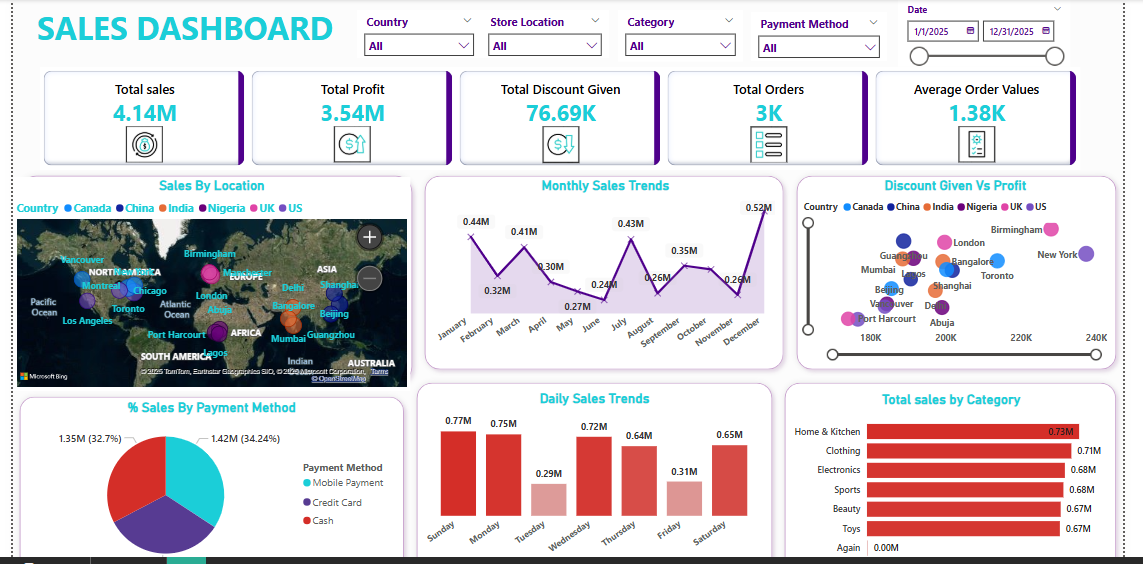

Layout of this report page (visuals, bound fields, positions):
{"tool":"powerbi","page":{"name":"Page 1","canvas":[1500,820],"ordinal":0},"visuals":[{"type":"cardVisual","fields":{"Data":["public Sales Data.Total sales","public Sales Data.Total Profit","public Sales Data.Total Discount Given","public Sales Data.Total Orders","public Sales Data.Average Order Values"]},"box":[37.1,90,1405.7,138.6],"z":0},{"type":"textbox","box":[0,2.9,464.3,74.3],"z":1000},{"type":"slicer","fields":{"Values":["public Sales Data.Country"]},"box":[464.9,13.5,167.6,64.9],"z":2000},{"type":"slicer","fields":{"Values":["public Sales Data.Store Location"]},"box":[632.4,13.5,173,64.9],"z":3000},{"type":"slicer","fields":{"Values":["public Sales Data.Category"]},"box":[817.1,12.9,168.6,70],"z":4000},{"type":"slicer","fields":{"Values":["public Sales Data.Payment Method"]},"box":[997.1,15.7,184.3,65.7],"z":5000},{"type":"slicer","fields":{"Values":["public Sales Data.Date"]},"box":[1195.7,0,232.9,90],"z":6000},{"type":"shape","box":[0,228.6,548.6,298.6],"z":7000},{"type":"shape","box":[547.1,228.6,502.9,280],"z":8000},{"type":"shape","box":[1050,228.6,450,280],"z":9000},{"type":"shape","box":[0,527.1,537.1,262.9],"z":10000},{"type":"shape","box":[537.1,508.6,498.6,281.4],"z":11000},{"type":"shape","box":[1034.3,508.6,465.7,281.4],"z":12000},{"type":"areaChart","title":" Monthly Sales Trends","fields":{"Category":["public Sales Data.Month Name"],"Y":["public Sales Data.Total sales"]},"box":[565.7,238.6,468.6,251.4],"z":13000},{"type":"columnChart","title":"Daily Sales Trends","fields":{"Category":["public Sales Data.Day Name"],"Y":["public Sales Data.Total sales"]},"box":[548.6,527.1,474.3,240],"z":14000},{"type":"pieChart","title":"% Sales By Payment Method","fields":{"Category":["public Sales Data.Payment Method"],"Y":["public Sales Data.Total sales"]},"box":[15.7,538.6,504.3,238.6],"z":15000},{"type":"scatterChart","title":"Discount Given Vs Profit","fields":{"X":["public Sales Data.Total Profit"],"Y":["public Sales Data.Total Discounts"],"Category":["public Sales Data.Store Location"],"Series":["public Sales Data.Country"],"Size":["public Sales Data.Total Orders"]},"box":[1062.9,238.6,420,251.4],"z":16000},{"type":"barChart","fields":{"Category":["public Sales Data.Category"],"Y":["public Sales Data.Total sales"]},"box":[1050,528.6,435.7,238.6],"z":17000},{"type":"map","title":"Sales By Location","fields":{"Category":["public Sales Data.Store Location"],"Size":["public Sales Data.Total sales"],"Series":["public Sales Data.Country"]},"box":[0,238.6,537.1,288.6],"z":17001}]}

Visuals, with their boxes on the page's 1500x820 design canvas (x1, y1, x2, y2). These are canvas units, not pixel positions in the 1143x564 screenshot, which may show the page scaled, cropped or inside an application window:
cardVisual - public Sales Data.Total sales x public Sales Data.Total Profit: l=37, t=90, r=1443, b=229
textbox: l=0, t=3, r=464, b=77
slicer - public Sales Data.Country: l=465, t=14, r=632, b=78
slicer - public Sales Data.Store Location: l=632, t=14, r=805, b=78
slicer - public Sales Data.Category: l=817, t=13, r=986, b=83
slicer - public Sales Data.Payment Method: l=997, t=16, r=1181, b=81
slicer - public Sales Data.Date: l=1196, t=0, r=1429, b=90
shape: l=0, t=229, r=549, b=527
shape: l=547, t=229, r=1050, b=509
shape: l=1050, t=229, r=1500, b=509
shape: l=0, t=527, r=537, b=790
shape: l=537, t=509, r=1036, b=790
shape: l=1034, t=509, r=1500, b=790
" Monthly Sales Trends" areaChart: l=566, t=239, r=1034, b=490
"Daily Sales Trends" columnChart: l=549, t=527, r=1023, b=767
"% Sales By Payment Method" pieChart: l=16, t=539, r=520, b=777
"Discount Given Vs Profit" scatterChart: l=1063, t=239, r=1483, b=490
barChart - public Sales Data.Category x public Sales Data.Total sales: l=1050, t=529, r=1486, b=767
"Sales By Location" map: l=0, t=239, r=537, b=527
